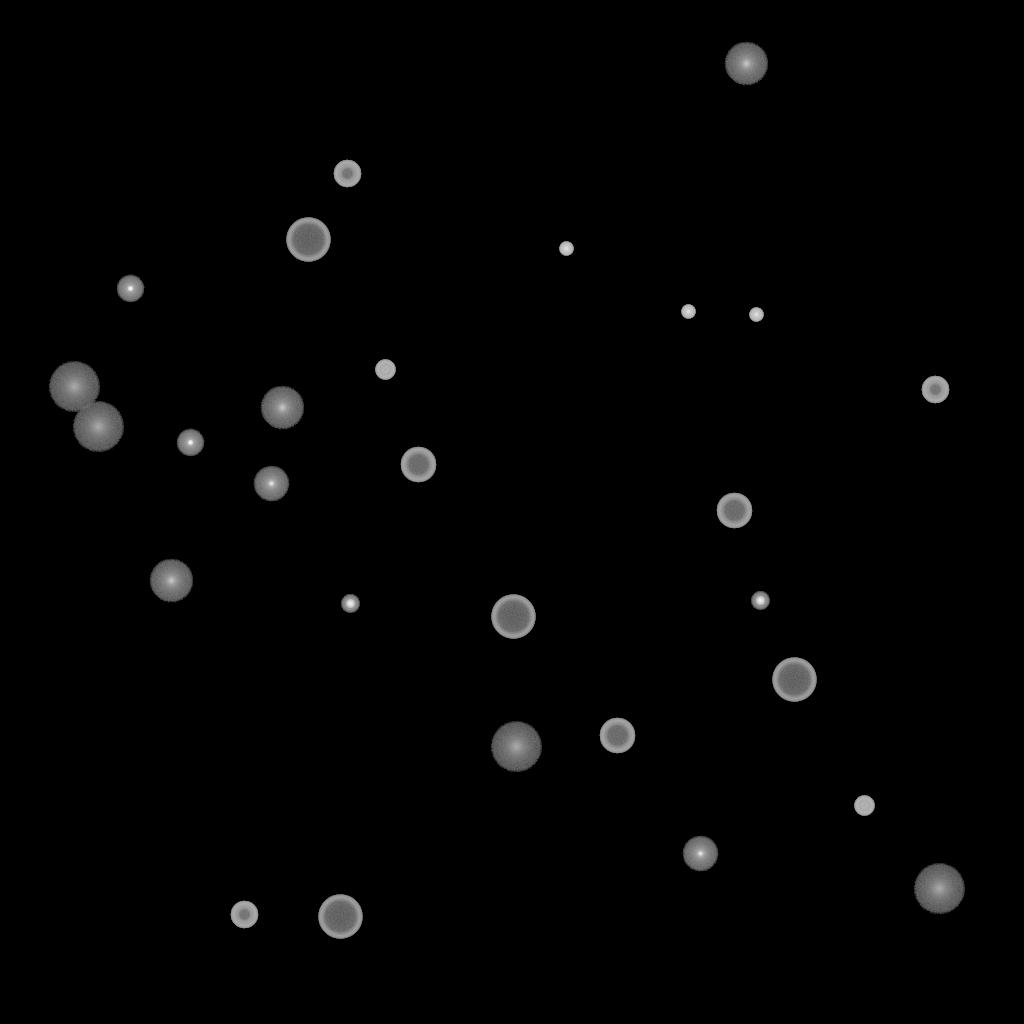depth:-10: (176, 429, 204, 457), (116, 275, 144, 303)
depth:-20: (751, 592, 769, 610), (341, 595, 359, 613)
depth:-30: (749, 308, 763, 322), (559, 242, 573, 256), (681, 305, 695, 319)
depth:-40: (854, 796, 874, 816), (375, 360, 395, 380)
depth:-50: (921, 376, 949, 404), (333, 160, 361, 188), (230, 901, 258, 929)
depth:-60: (400, 447, 436, 483), (716, 493, 752, 529), (599, 718, 635, 754)
depth:-70: (491, 595, 535, 639), (318, 895, 362, 939), (772, 658, 816, 702), (286, 218, 330, 262)
depth:0: (682, 836, 718, 872), (253, 466, 289, 502)
depth:10: (149, 559, 193, 603), (724, 42, 768, 86), (260, 386, 304, 430)
depth:20: (490, 722, 542, 772), (72, 402, 124, 452), (913, 864, 965, 914), (48, 362, 100, 412)
